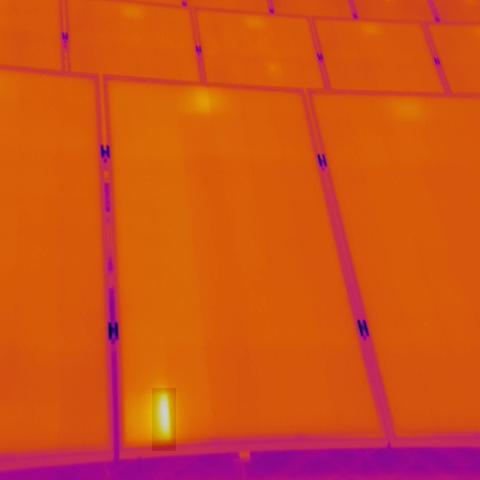fault: (152, 388, 176, 451)
